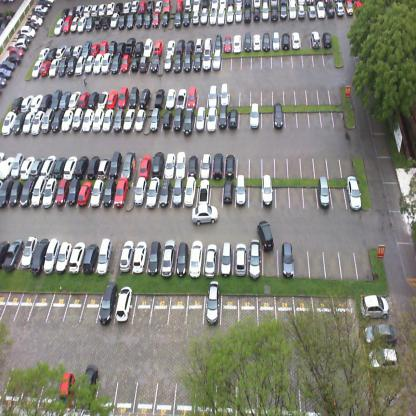car: (78, 364, 99, 408), (368, 347, 400, 374), (360, 293, 391, 319), (96, 288, 118, 324), (363, 323, 397, 346), (30, 235, 49, 275), (114, 289, 136, 322), (145, 240, 165, 275), (57, 369, 74, 410), (202, 293, 221, 329), (4, 236, 23, 272), (41, 239, 60, 273), (68, 240, 87, 274), (76, 176, 94, 210), (144, 177, 162, 211), (256, 217, 274, 251), (53, 241, 72, 273), (82, 240, 100, 273), (30, 172, 46, 209), (88, 174, 105, 208), (278, 244, 295, 278), (192, 203, 218, 225), (160, 241, 177, 274), (174, 243, 191, 276), (20, 235, 37, 268), (203, 241, 218, 278), (170, 176, 186, 210), (188, 242, 204, 276), (344, 176, 362, 206), (234, 241, 249, 277), (65, 176, 81, 209), (113, 177, 129, 210), (156, 178, 172, 211), (132, 240, 148, 273), (217, 242, 233, 275), (100, 178, 116, 210), (96, 244, 113, 274), (248, 240, 263, 274), (316, 177, 332, 208), (118, 242, 134, 272), (20, 174, 34, 208), (42, 178, 57, 209), (133, 177, 146, 212), (73, 154, 91, 179), (84, 153, 101, 179), (197, 179, 211, 210), (0, 174, 13, 207), (122, 106, 137, 134), (235, 179, 249, 209), (262, 178, 276, 208), (90, 106, 106, 132), (96, 154, 112, 180), (40, 152, 56, 178), (0, 154, 16, 180), (20, 153, 35, 180), (122, 155, 138, 180), (101, 107, 115, 135), (112, 107, 126, 135), (186, 152, 201, 178), (56, 177, 69, 207), (31, 109, 46, 135), (109, 155, 125, 179), (10, 152, 25, 177), (184, 179, 196, 210), (133, 108, 147, 134), (149, 154, 163, 180), (138, 155, 153, 179), (9, 178, 21, 208), (150, 106, 163, 133), (164, 152, 178, 177), (199, 152, 213, 177), (210, 152, 224, 177), (224, 179, 236, 208), (82, 108, 95, 134), (61, 108, 74, 134), (174, 153, 188, 177), (224, 150, 236, 178), (12, 111, 26, 135), (31, 156, 46, 178), (64, 155, 77, 180), (51, 107, 64, 132), (22, 110, 35, 135), (2, 112, 16, 135), (194, 107, 206, 133), (42, 106, 54, 132), (52, 156, 66, 178), (162, 107, 174, 132), (128, 83, 140, 108), (207, 85, 219, 109), (139, 85, 151, 109), (175, 86, 188, 108), (59, 88, 72, 110), (274, 105, 286, 128), (184, 106, 194, 133), (216, 107, 227, 131), (0, 236, 8, 269), (165, 86, 177, 108), (154, 86, 166, 108), (118, 84, 129, 108), (107, 87, 119, 109), (88, 86, 100, 108), (174, 108, 184, 134), (10, 95, 24, 113), (252, 105, 262, 130), (187, 84, 197, 109), (21, 92, 34, 111), (205, 108, 216, 130), (228, 106, 239, 128), (51, 88, 62, 110), (66, 53, 77, 75), (84, 52, 95, 74), (111, 52, 122, 74), (72, 108, 82, 132), (220, 82, 230, 106), (212, 48, 222, 72), (142, 36, 154, 56), (68, 90, 81, 108), (30, 92, 43, 110), (30, 59, 43, 77), (163, 52, 174, 73), (57, 56, 69, 75), (49, 57, 60, 77), (75, 56, 86, 76), (101, 53, 111, 75), (172, 51, 182, 73), (97, 90, 109, 108), (78, 91, 90, 109), (40, 90, 52, 108), (40, 58, 52, 76), (125, 37, 137, 55), (93, 53, 103, 74), (150, 52, 160, 73), (131, 53, 142, 72), (62, 16, 73, 35), (354, 0, 365, 19), (193, 49, 202, 72), (120, 54, 130, 74), (174, 8, 184, 28), (203, 48, 212, 70), (243, 30, 252, 52), (153, 37, 164, 55), (140, 54, 150, 73), (323, 31, 333, 50), (310, 29, 320, 48), (118, 12, 128, 31), (208, 7, 218, 26), (336, 0, 346, 19), (6, 54, 21, 66), (21, 25, 36, 37), (290, 31, 300, 49), (281, 31, 290, 51), (232, 32, 241, 52), (134, 39, 144, 57), (52, 19, 64, 34), (8, 46, 24, 57), (166, 37, 177, 53), (100, 14, 111, 30), (82, 39, 92, 56), (136, 10, 146, 27), (162, 10, 172, 27), (272, 31, 280, 52), (262, 30, 270, 51), (90, 41, 101, 56), (252, 32, 261, 50), (144, 10, 153, 28), (307, 2, 316, 20), (346, 0, 355, 18), (13, 39, 29, 49), (184, 51, 192, 71), (126, 13, 136, 29), (218, 6, 226, 26), (227, 4, 235, 24), (2, 60, 15, 72), (18, 34, 32, 45), (29, 14, 43, 25), (85, 15, 94, 32), (110, 12, 119, 29), (182, 9, 191, 26), (270, 6, 279, 23), (224, 34, 232, 53), (200, 6, 208, 25), (288, 1, 296, 20), (318, 0, 326, 19), (108, 38, 118, 53), (99, 38, 109, 53), (70, 16, 80, 31), (76, 17, 86, 32), (214, 32, 222, 50), (192, 9, 200, 27), (244, 5, 252, 23), (262, 2, 270, 20), (327, 0, 335, 18), (56, 45, 67, 58), (39, 45, 50, 58), (26, 20, 40, 30), (82, 2, 92, 16), (235, 4, 242, 24), (186, 38, 195, 53), (176, 37, 185, 52), (94, 14, 103, 29), (152, 12, 161, 27), (0, 68, 12, 79), (46, 47, 57, 59), (32, 10, 45, 20), (38, 0, 51, 10), (117, 42, 127, 55), (73, 44, 83, 57), (195, 36, 203, 52), (252, 6, 260, 22), (75, 4, 84, 18), (138, 0, 147, 14), (173, 0, 184, 11), (66, 41, 74, 56), (280, 5, 288, 20), (35, 5, 49, 13), (204, 35, 212, 49), (298, 3, 305, 19), (146, 0, 156, 11), (98, 3, 107, 15), (115, 0, 124, 12), (106, 2, 114, 15), (0, 75, 8, 88), (66, 6, 76, 16), (60, 7, 69, 18), (162, 0, 171, 11), (90, 4, 98, 16), (123, 1, 131, 12), (154, 0, 162, 11), (132, 0, 139, 12), (192, 0, 200, 10), (200, 0, 210, 8), (185, 0, 191, 10)
